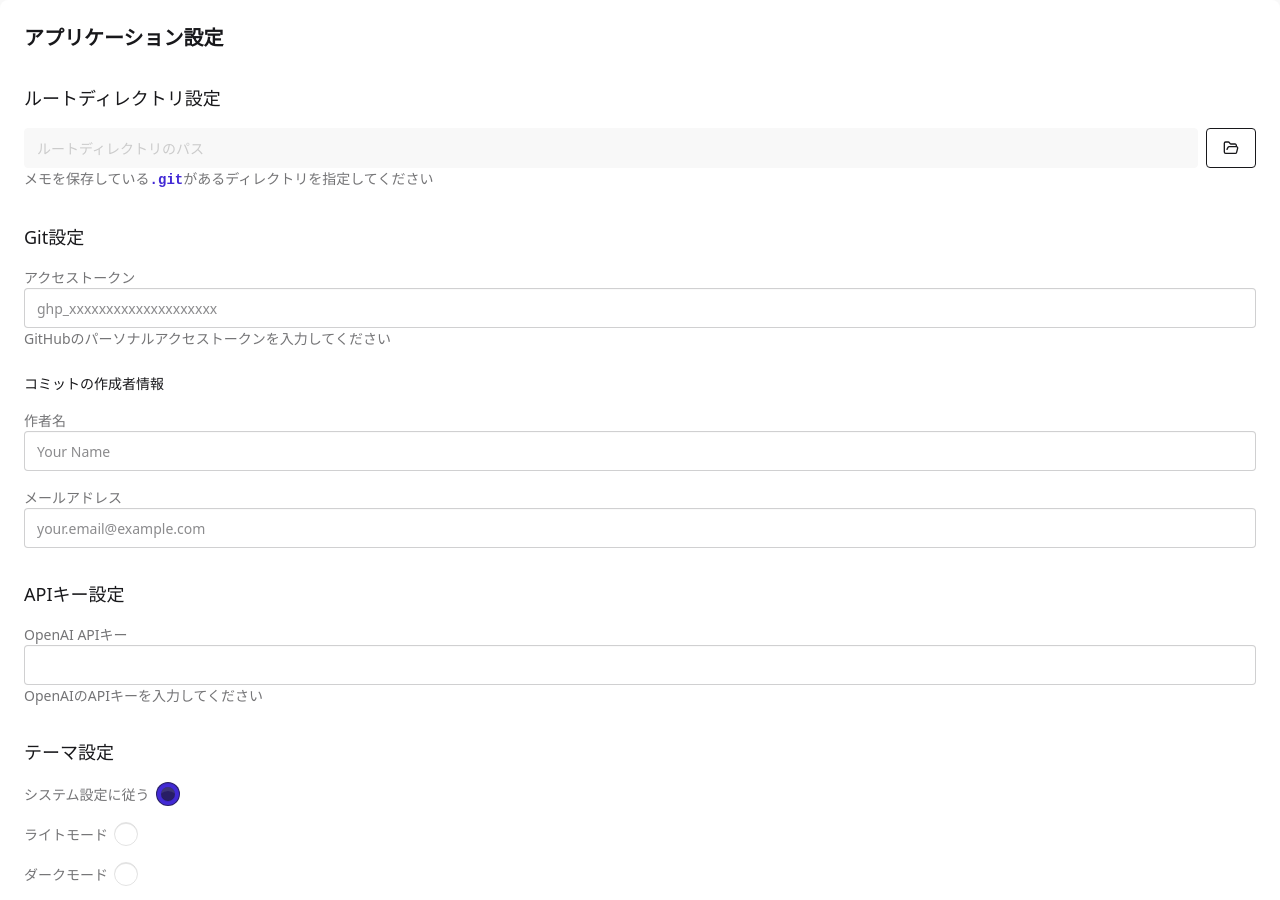
AppSettings › ルートディレクトリ設定 › ディレクトリ選択ボタンをクリックするとダイアログが開く
Note: ディレクトリ選択ボタンをクリック
What coordinates should you click on to do the following:
click the button titled "ディレクトリを選択"
I would click on:
 (1231, 148)
Its box is top-left (1206, 128), bottom-right (1256, 168).
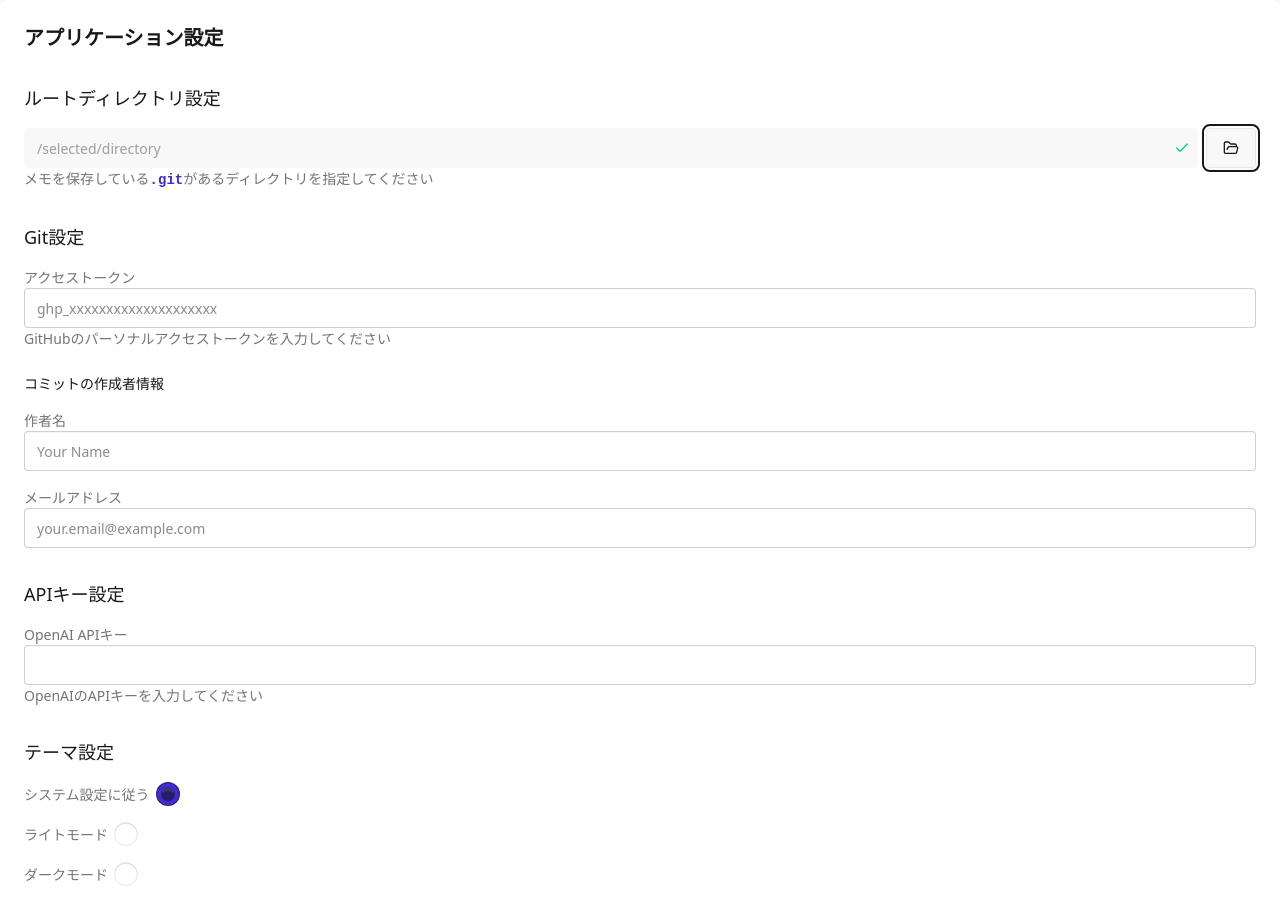
Expected: the field showing "/selected/directory" is shown, top-left (24, 128), bottom-right (1198, 168)
